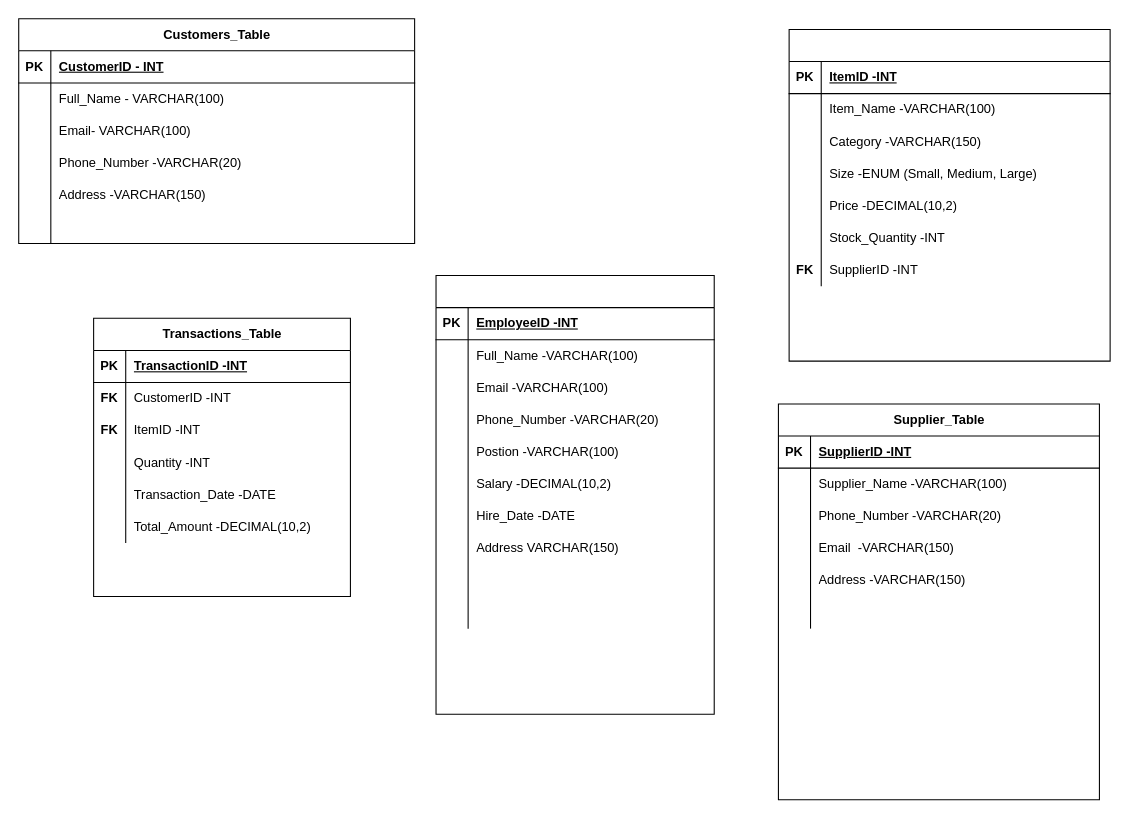
Some shapes in this 1129 by 819 pixel diagram are drawn without their labels. The box of each missing label's shape, as (x1, y1, x2, y2) in pixels:
Employee_Table: (435, 274, 714, 714)
Inventory_Table: (788, 28, 1110, 361)
